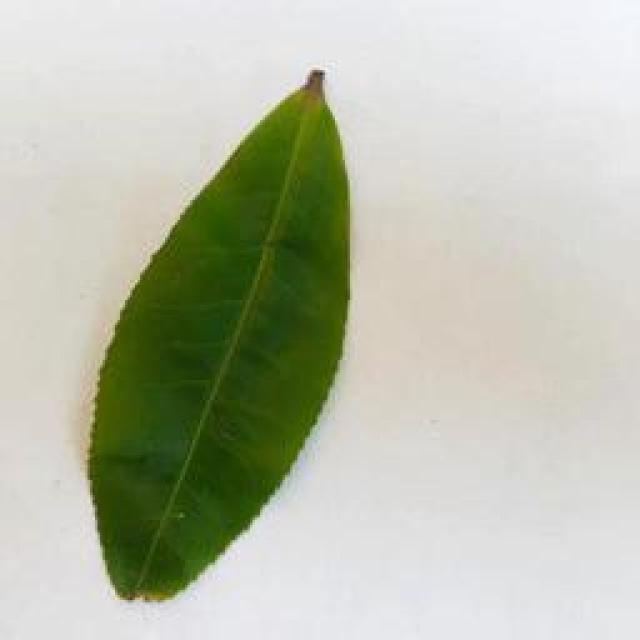Healthy: (89, 64, 357, 600)
